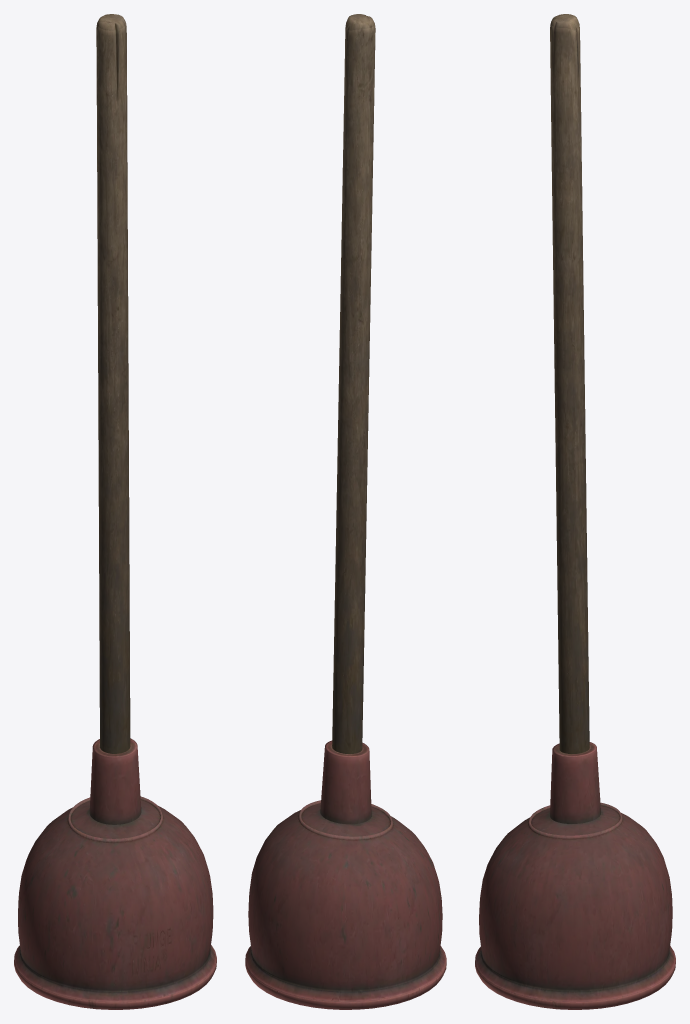
File: plunger.glb
The picture shows the model from 3 angles, left to right: view 1: azimuth 30°, elevation 25°; view 2: azimuth 150°, elevation 25°; view 3: azimuth 270°, elevation 25°; orthographic projection.
Parts seen in each view (by area): view 1: plunger.002; view 2: plunger.002; view 3: plunger.002.
Part boxes in pixels (x1,y1,x2,y2): plunger.002: (14,14,216,1009); plunger.002: (245,14,446,1009); plunger.002: (475,14,675,1009).
Bounding box in the file's own units: 3.98 × 20.72 × 3.98.
Materials: 1 (1 with a texture image).
